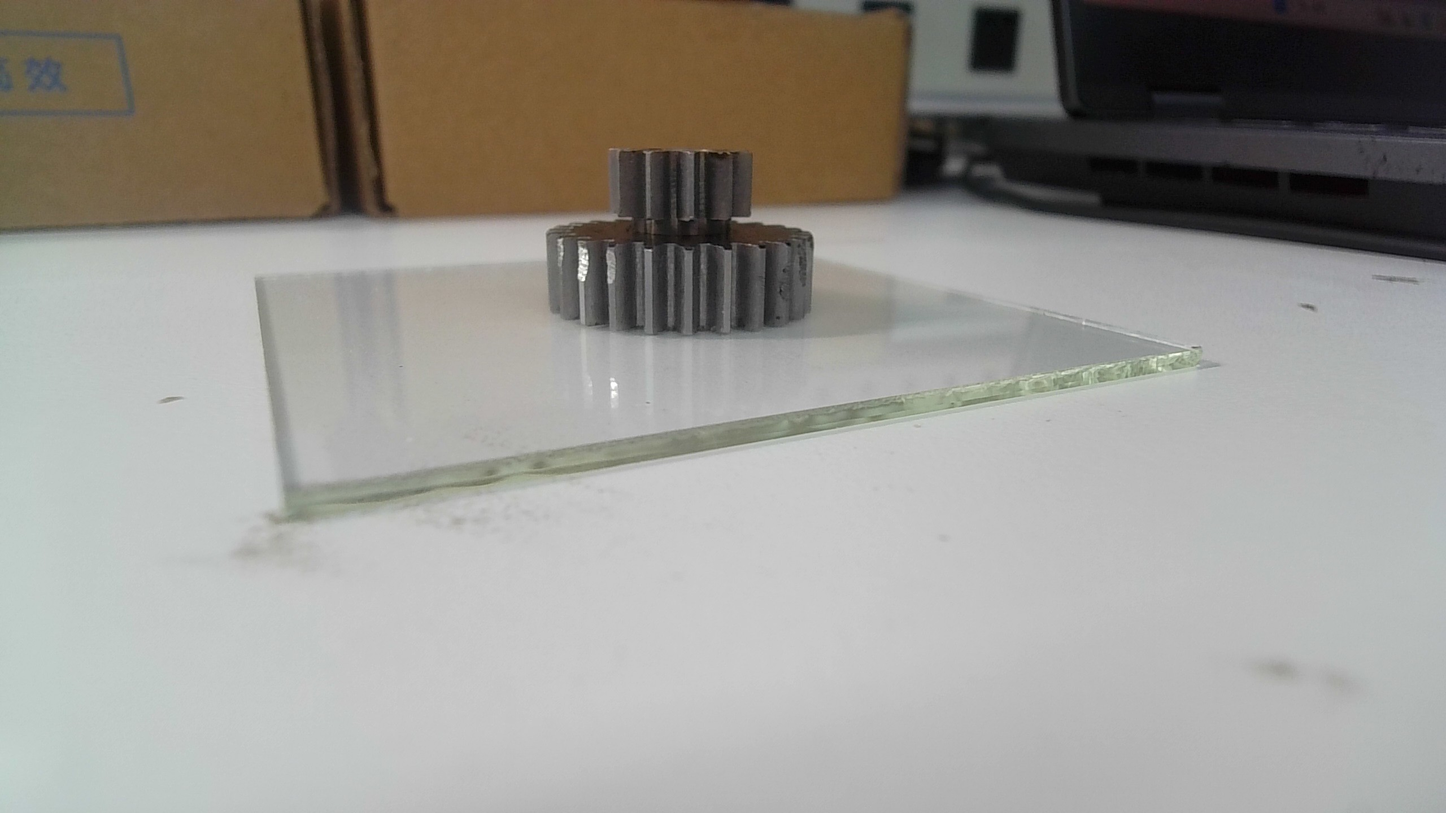gear: (539, 141, 817, 335)
